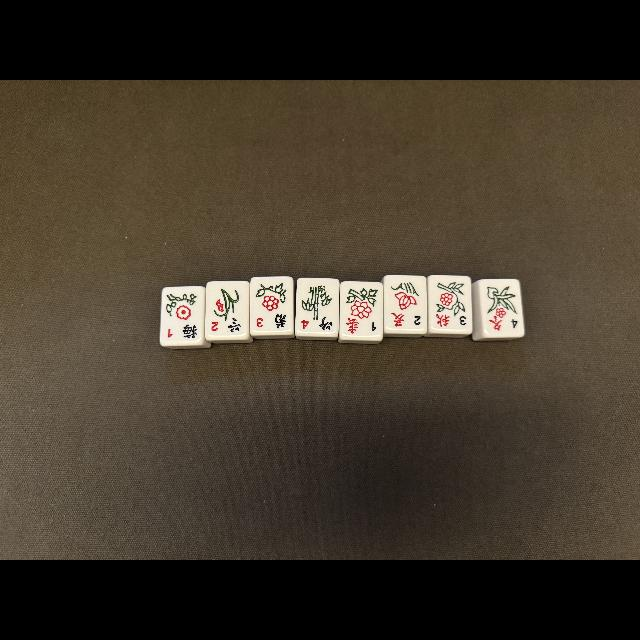f1: (162, 322, 204, 343)
f2: (206, 318, 250, 338)
f3: (252, 312, 292, 333)
f4: (296, 316, 338, 334)
s1: (340, 316, 382, 338)
s2: (386, 311, 426, 331)
s3: (429, 314, 471, 332)
s4: (481, 316, 524, 336)
